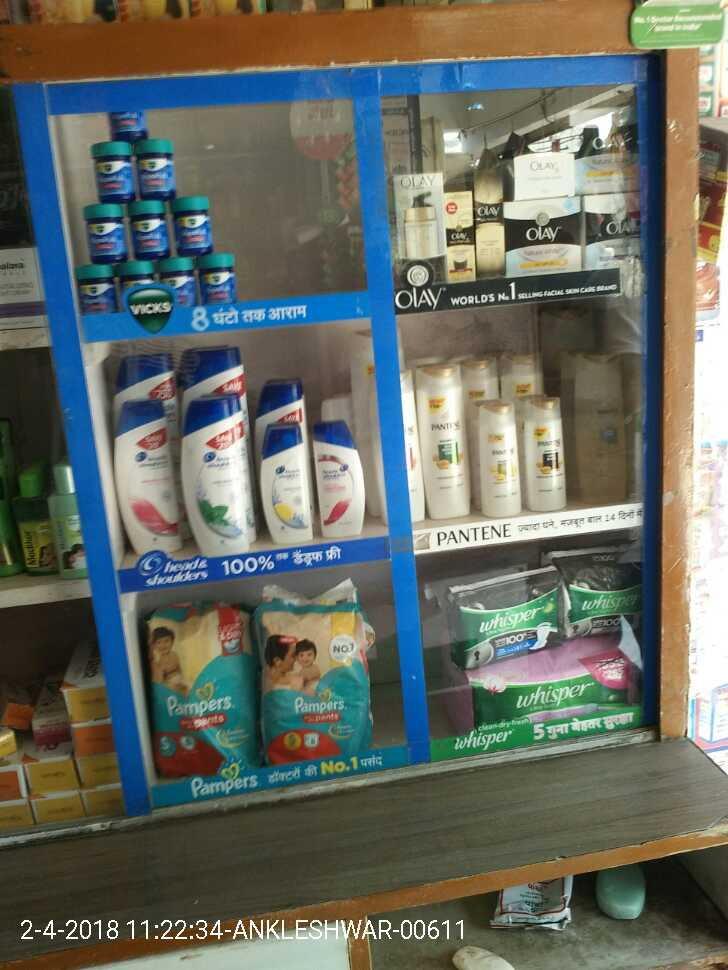vicks: (71, 266, 121, 311), (95, 142, 136, 196), (123, 258, 161, 313), (161, 258, 200, 309), (202, 252, 237, 308), (132, 203, 170, 253), (136, 142, 175, 190), (178, 192, 208, 252), (93, 199, 121, 261)
